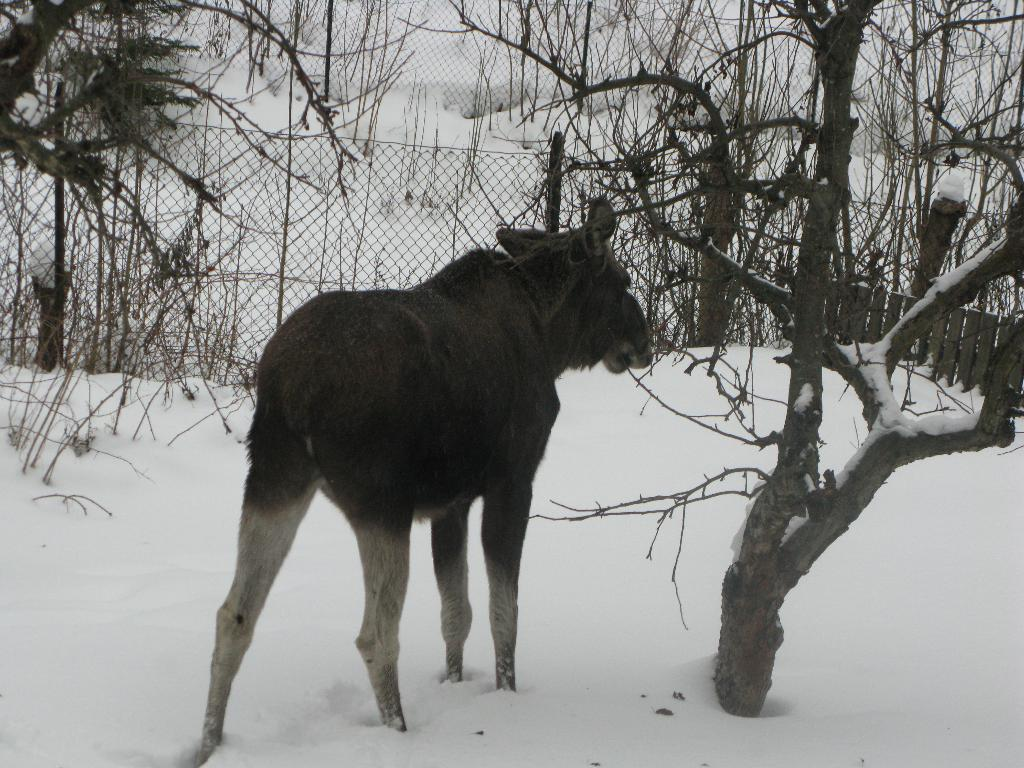Animal: (188, 193, 653, 767)
